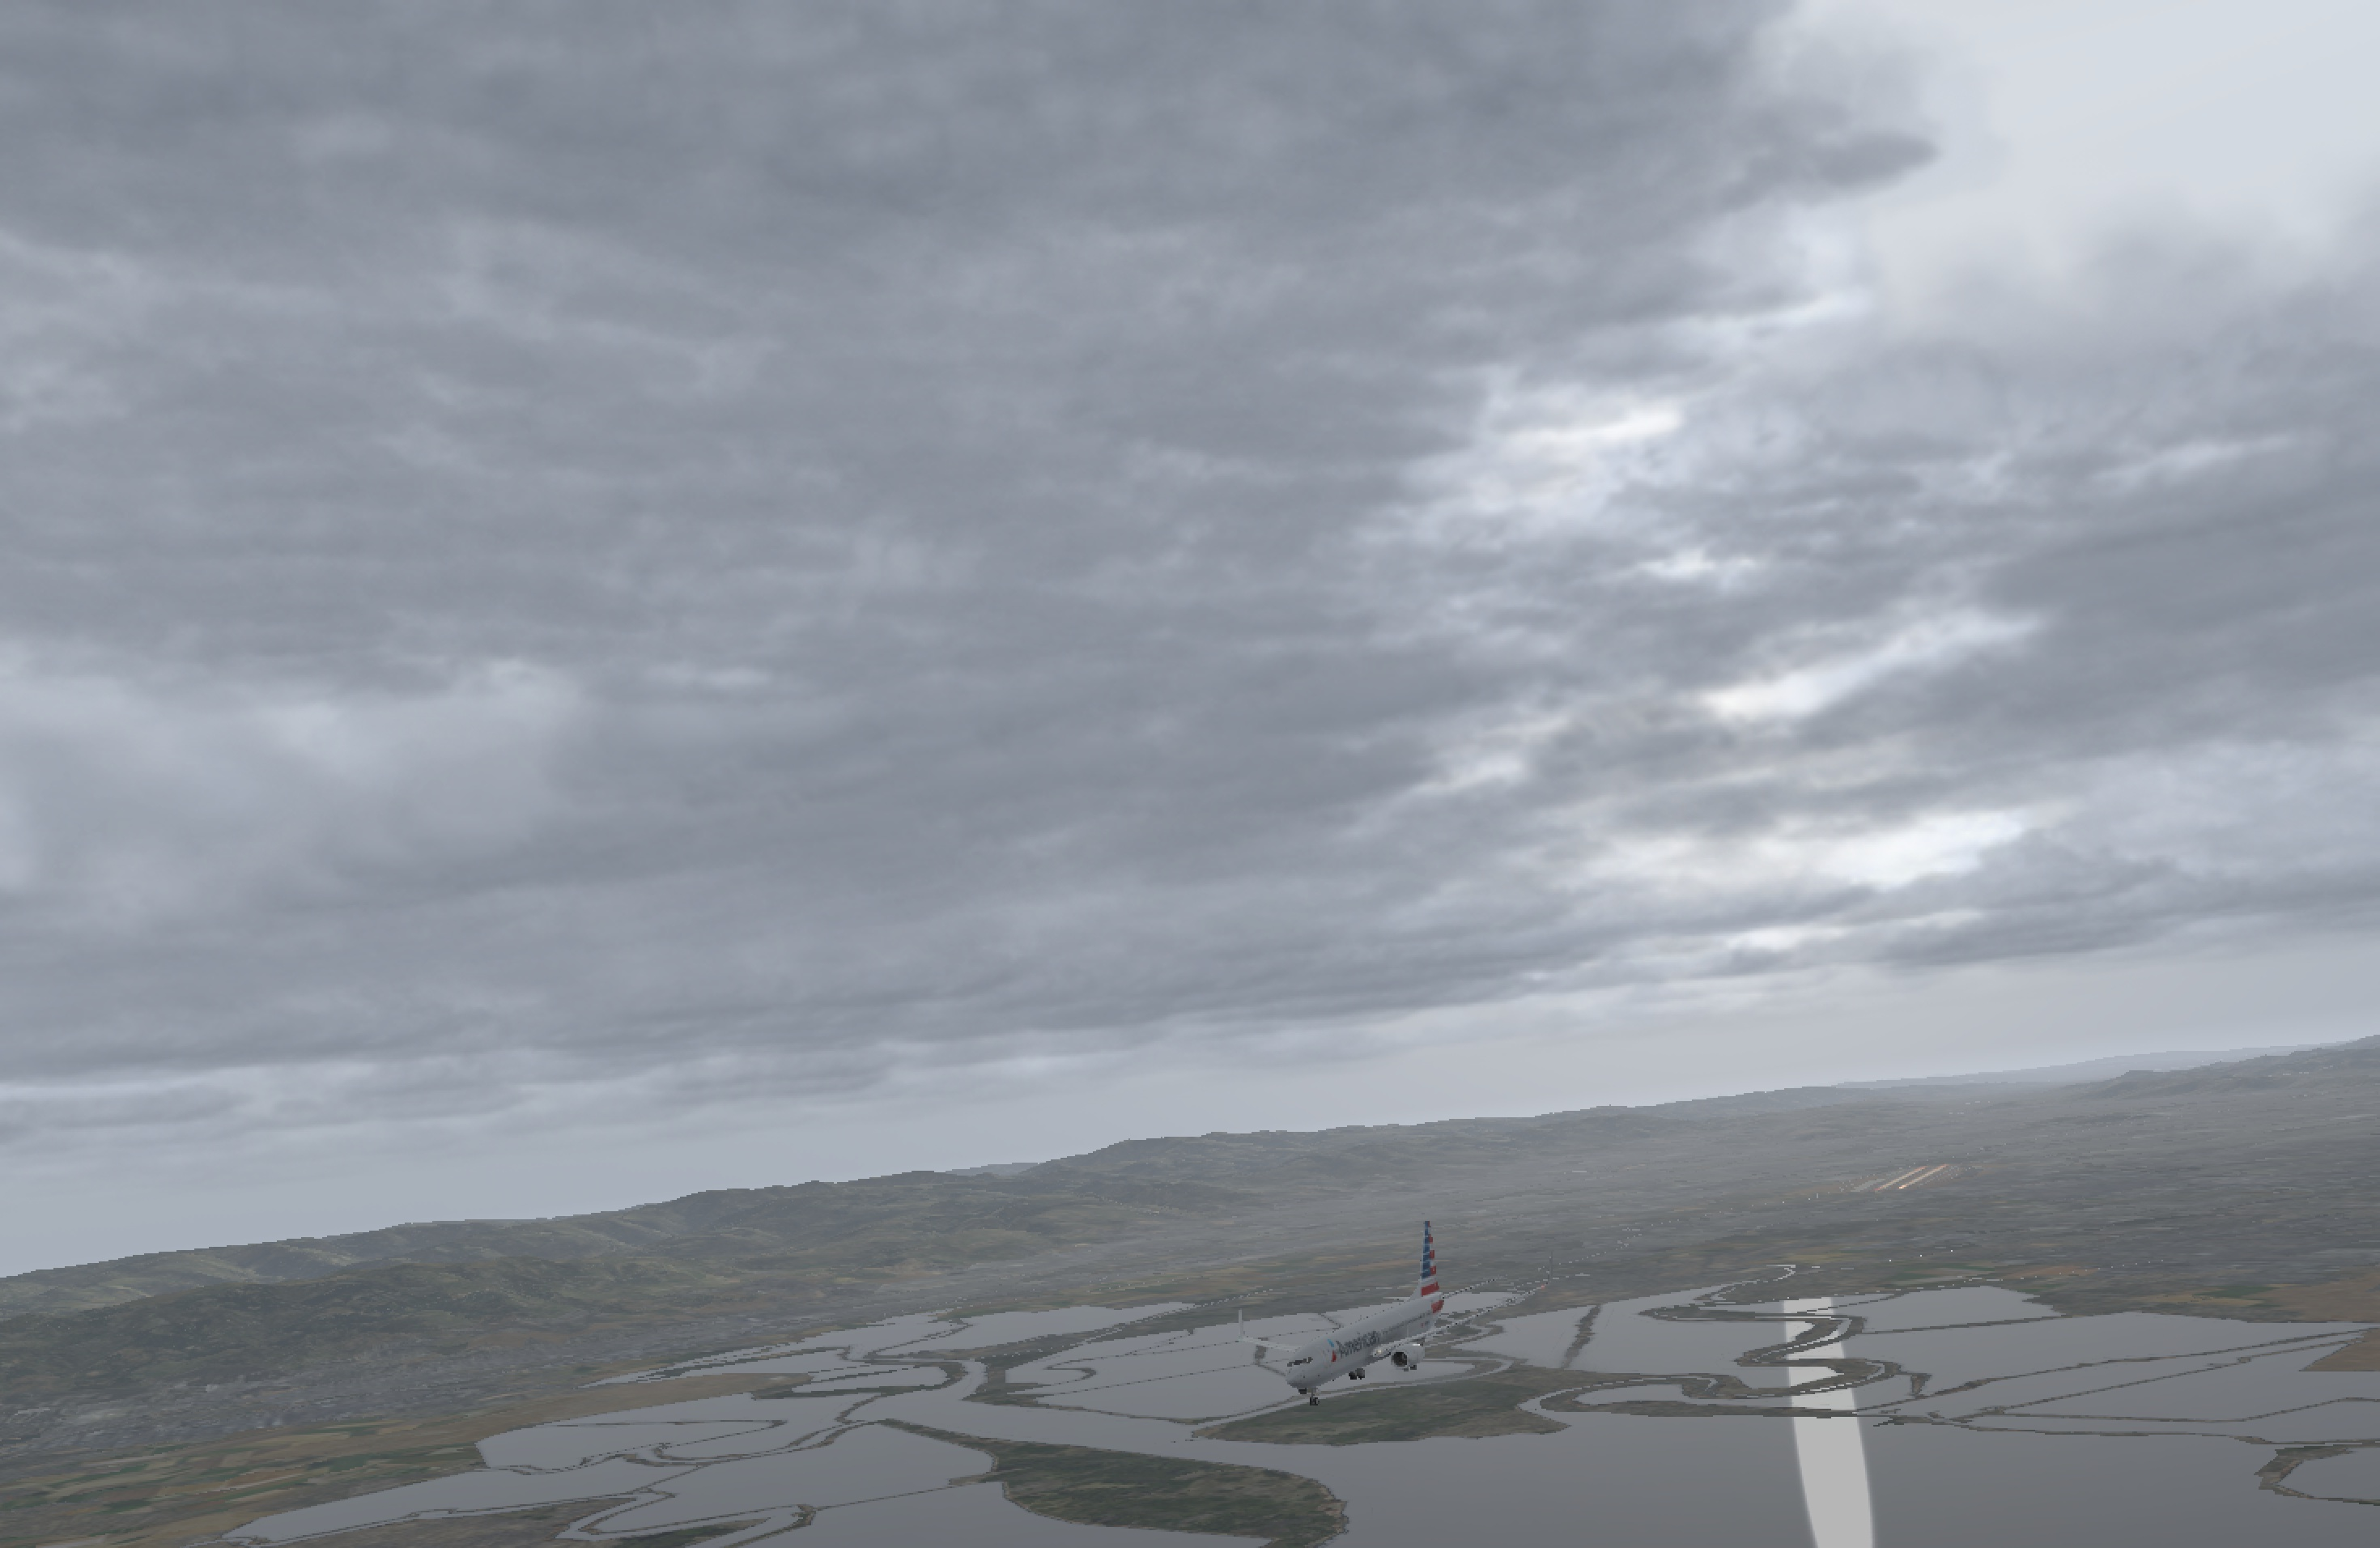aircraft: (1174, 1272, 1568, 1420)
